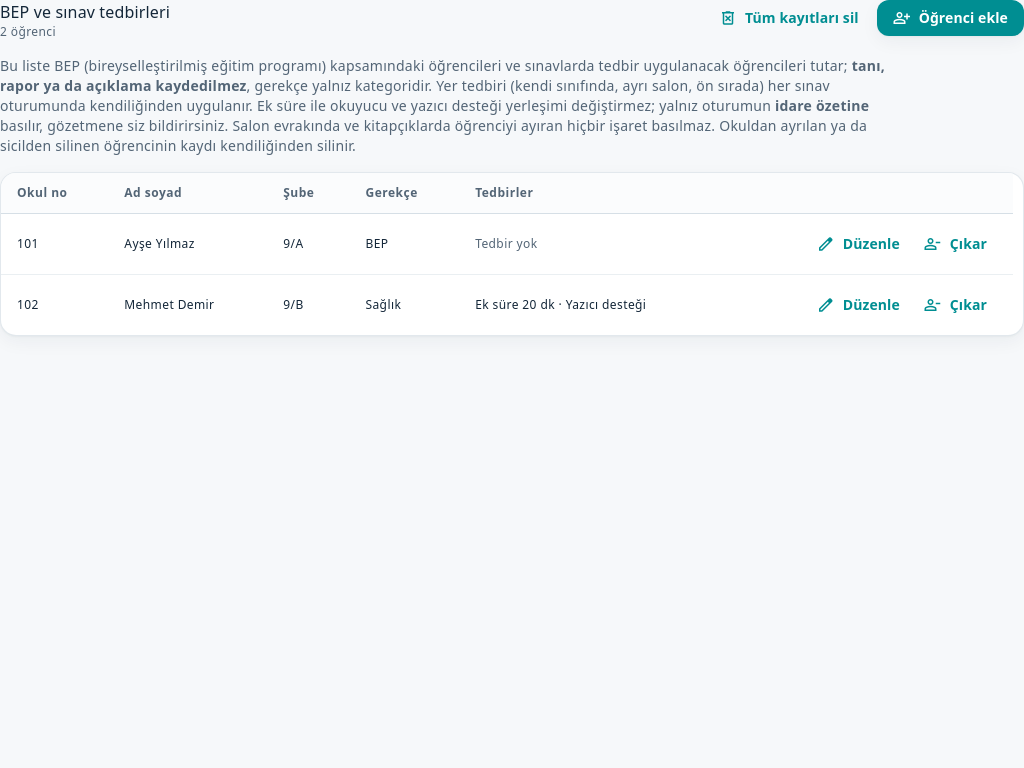
Scenario: BepListesiPaneli › zaten listedeki öğrenci aramada görünür ama seçilemez
expect the text "Ayşe Yılmaz" is shown: met, box [108,214,267,274]
Click the button "Öğrenci ekle" at (950, 18), box [877,0,1023,36]
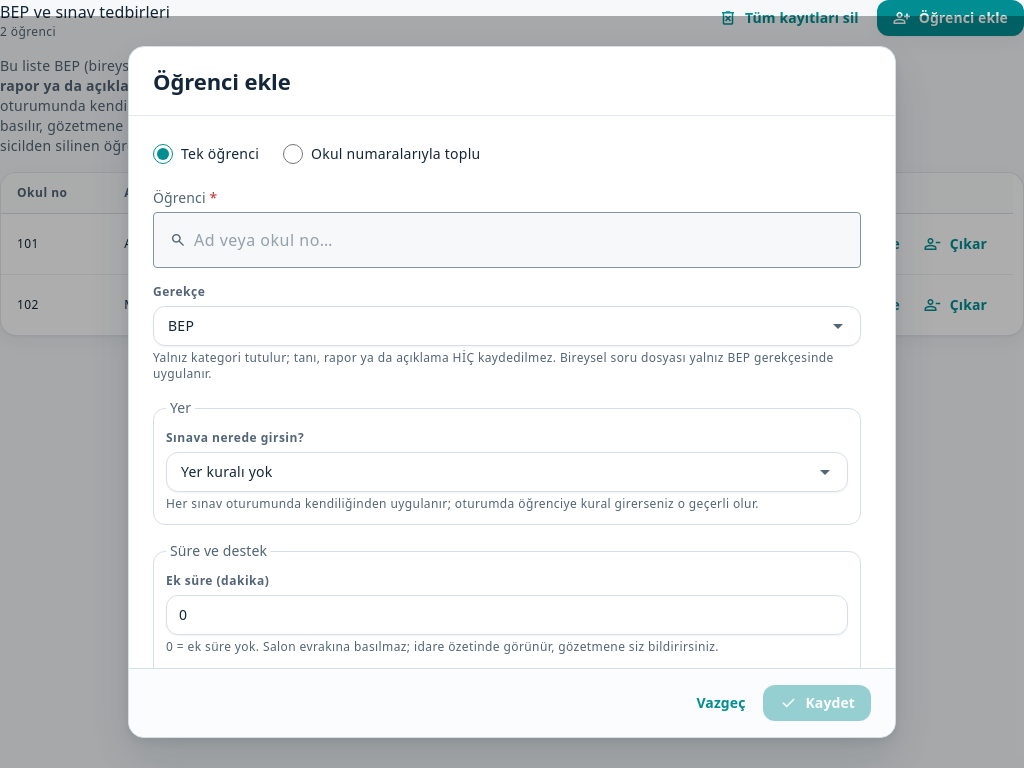
Type "Ayş" into the dropdown labelled "Öğrenci *" at (519, 240), box [194,228,844,252]
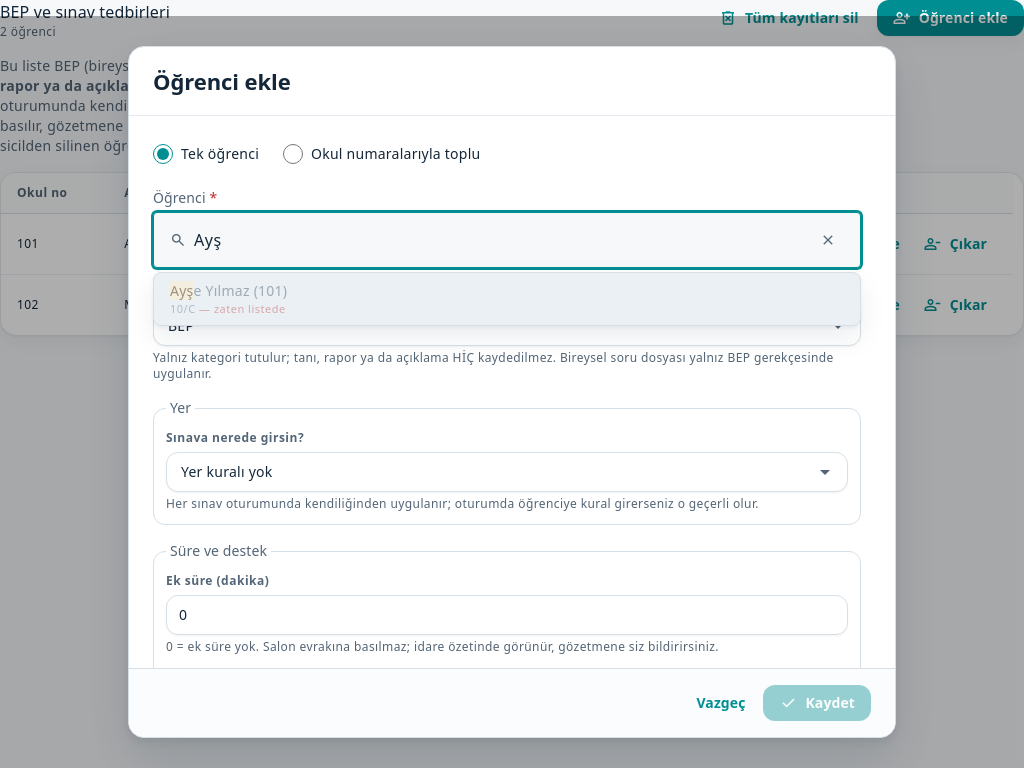
expect the option shows "zaten listede": met, box [170,281,287,316]
